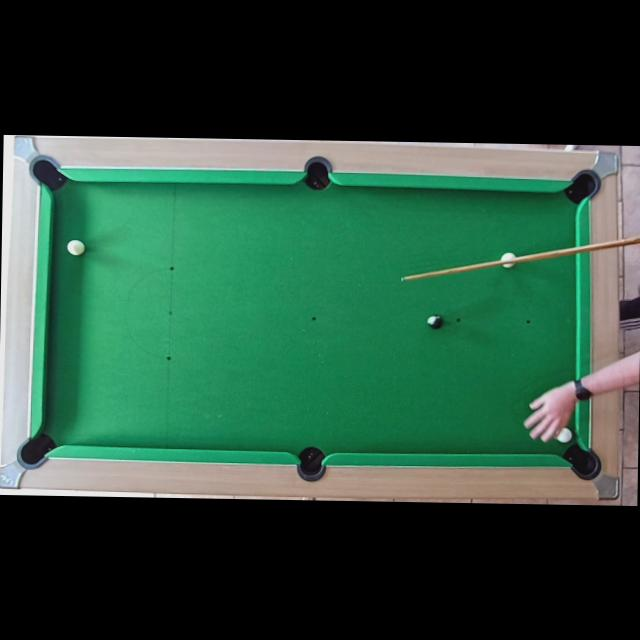Ball: (66, 239, 84, 254), (554, 427, 572, 442), (500, 252, 516, 268), (428, 314, 442, 328)
